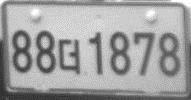1: (88, 31, 104, 75)
7: (133, 31, 155, 76)
8: (109, 31, 132, 75), (158, 32, 180, 77), (11, 30, 32, 73), (35, 30, 56, 73)
더: (58, 38, 81, 75)
